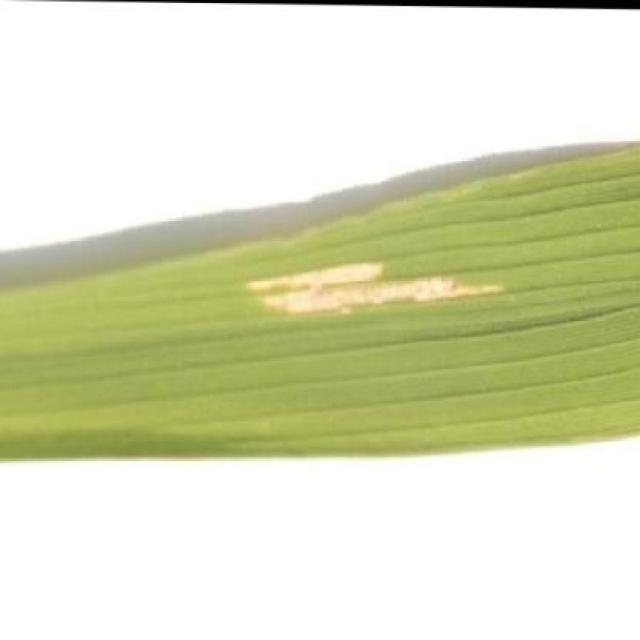Brown_Spot: (0, 130, 635, 474)
